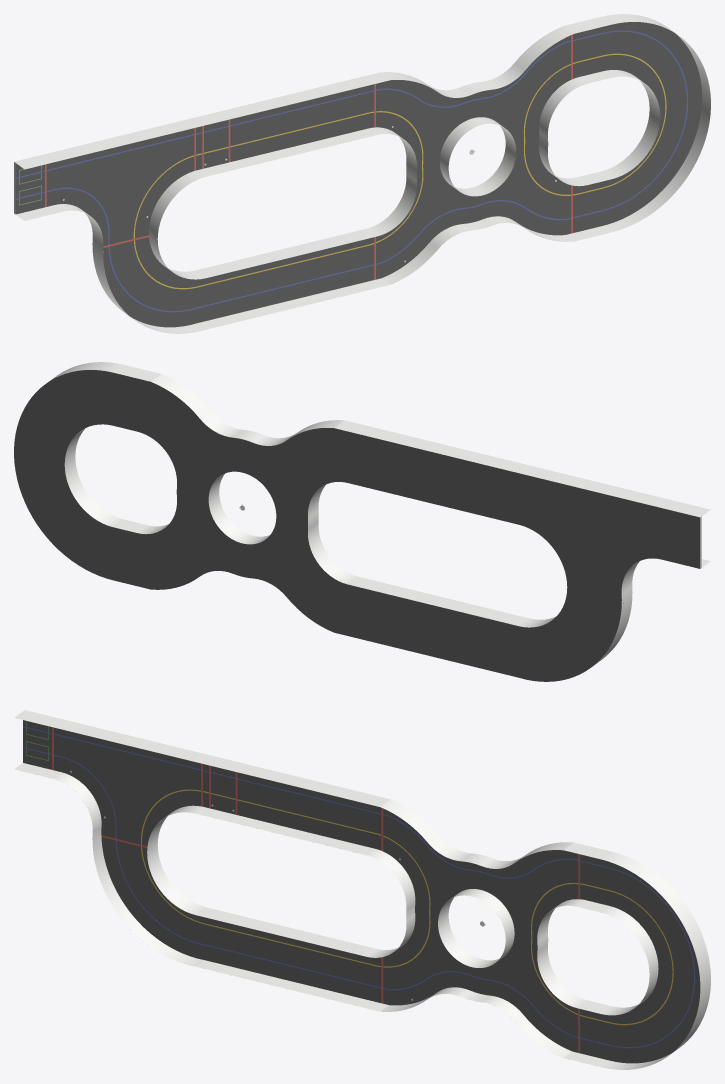
File: Long_roundabout.dae
3 renders of one model, top to bottom at view 1: azimuth 30°, elevation 25°; view 2: azimuth 150°, elevation 25°; view 3: azimuth 330°, elevation 25°, orthographic.
Parts seen in each view (by area): view 1: Long Roundabout; view 2: Long Roundabout; view 3: Long Roundabout.
Boxes of the visible parts, x1,y1,x2,y2 form: Long Roundabout: [14, 14, 710, 333]; Long Roundabout: [14, 362, 710, 681]; Long Roundabout: [14, 710, 710, 1069].
Bounding box in the file's own units: 11.33 × 0.3048 × 3.28.
